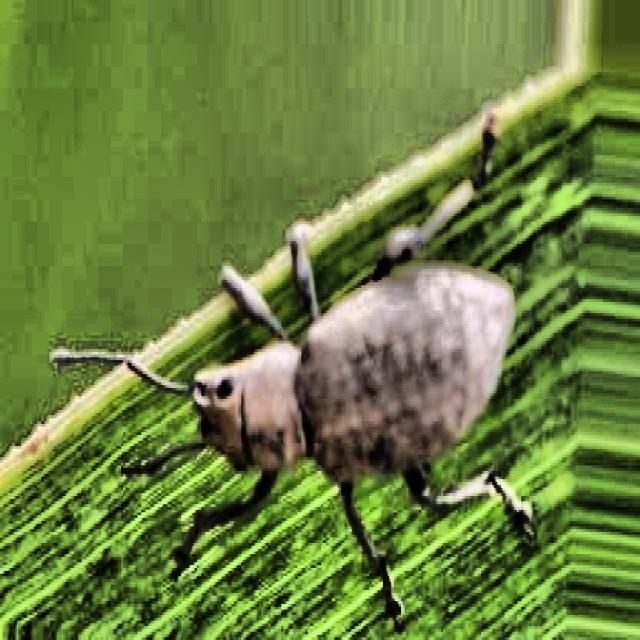Stink bug: (126, 201, 533, 597)
